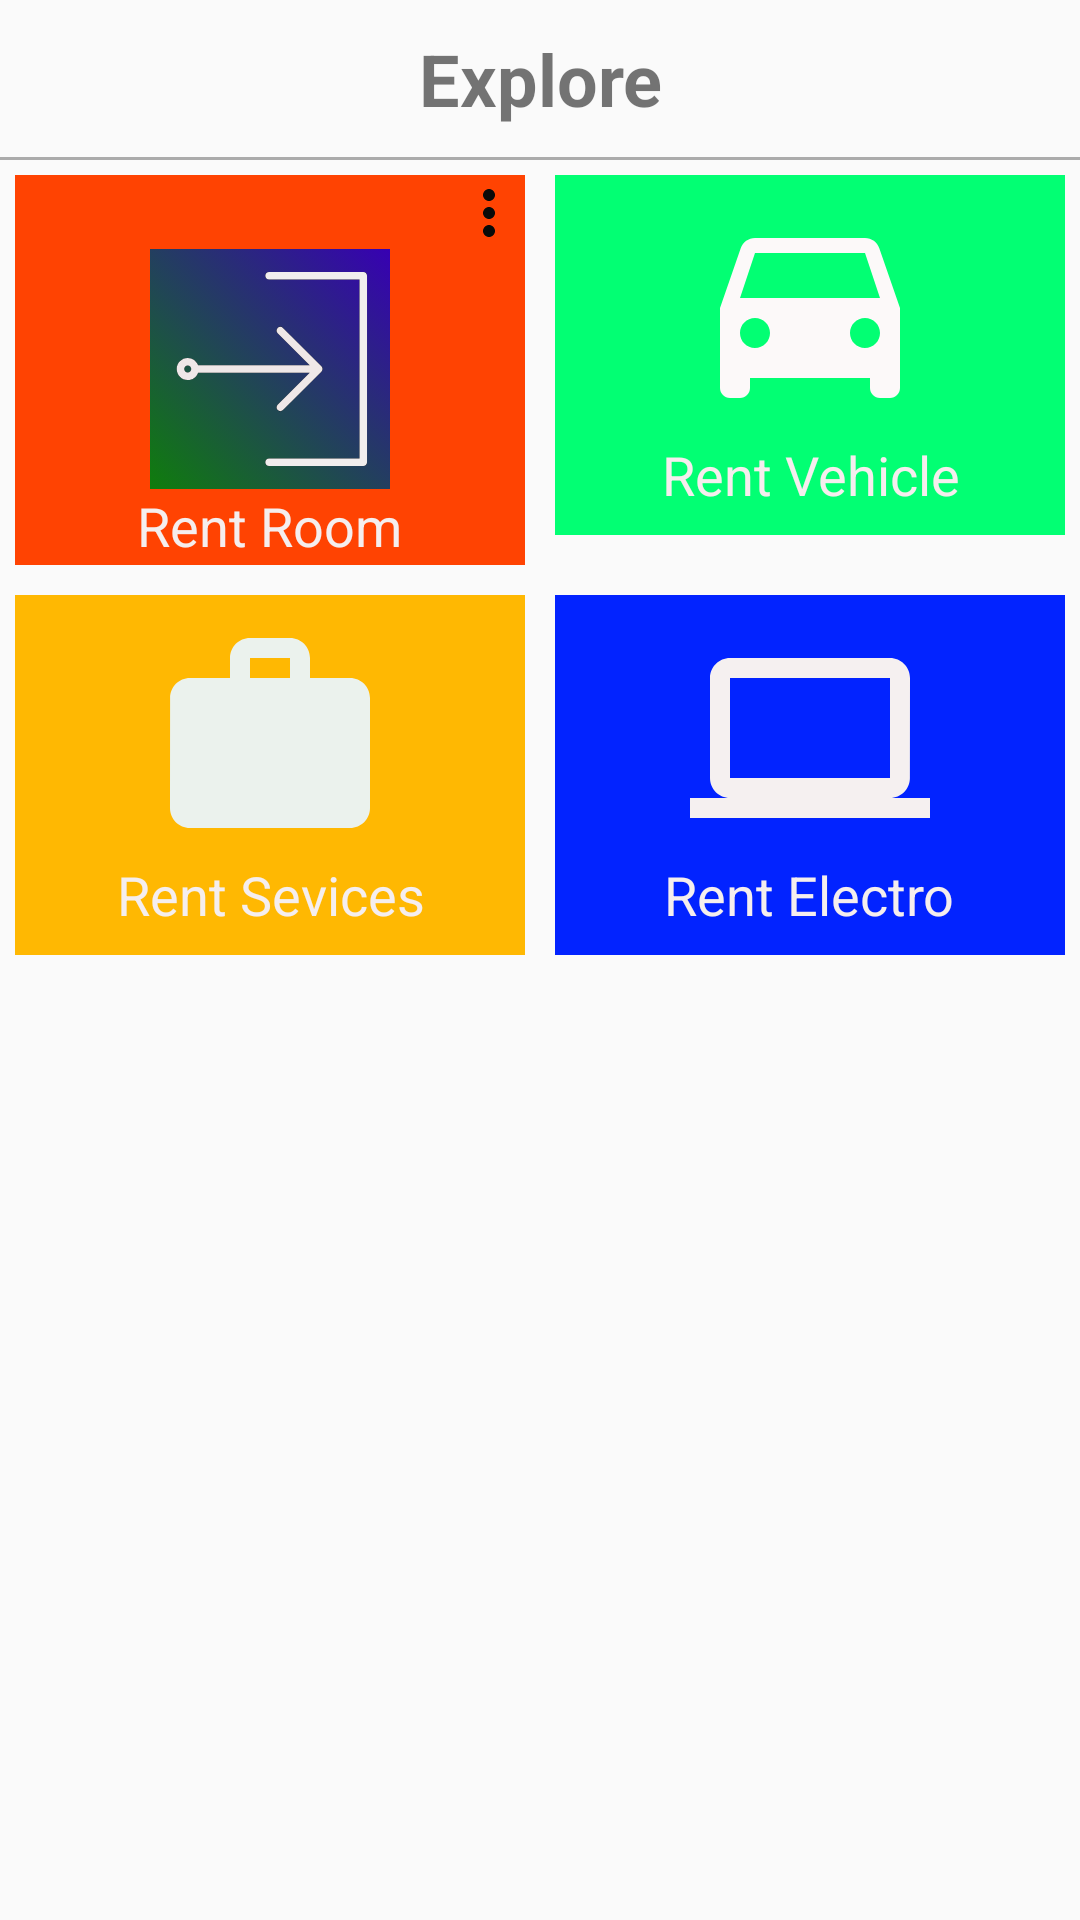

Named icons in this screenshot (1080px x 1920px) and their centers, (x,y):
computer: (810,738)
drive eta: (810,318)
if enter: (270,369)
more vert: (489,213)
work: (270,733)
